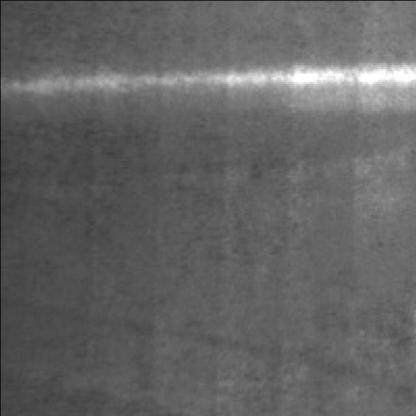scratches: (2, 54, 412, 108)
